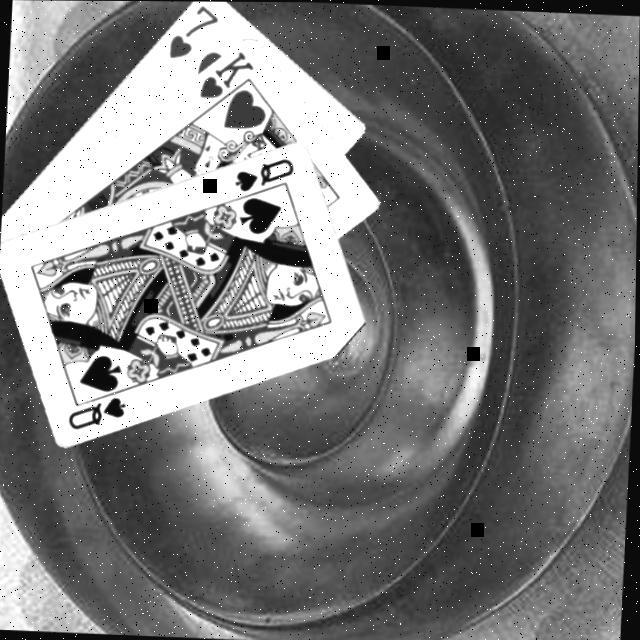7H: (162, 1, 220, 64)
KH: (193, 46, 256, 104)
QS: (228, 154, 296, 198), (63, 392, 128, 436)
